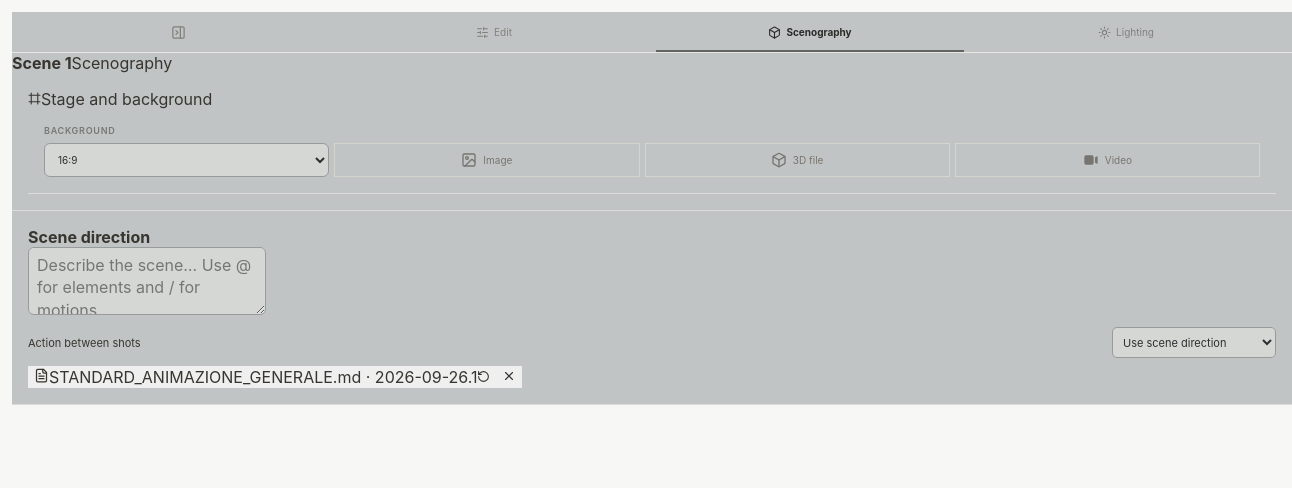
it: Scene direction mentions and motion presets › offers element motions after @mention and saves their prompts
Type "@Cu" into the text box named "Scene direction".
click(147, 281); type("@Cu")  # box 28,247 -> 266,315
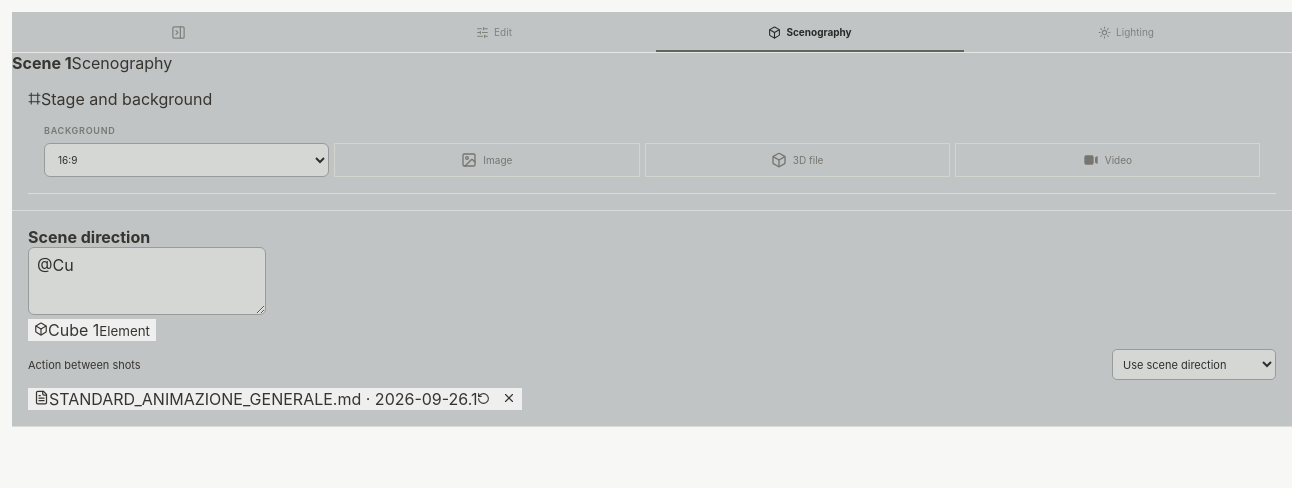
Result: the option with aria-label "Cube 1 Element" is shown
Click the option with aria-label "Cube 1 Element".
click(92, 330)  # box 28,319 -> 156,341
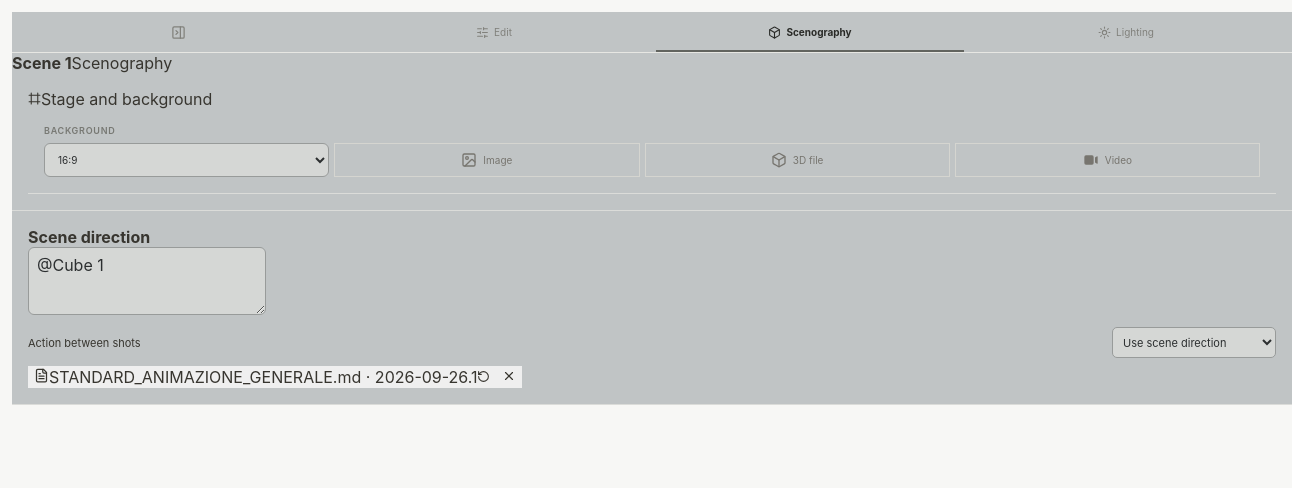
Replace the text in the text box named "Scene direction" with "@Cube 1 /" at (147,281), box 28,247 -> 266,315
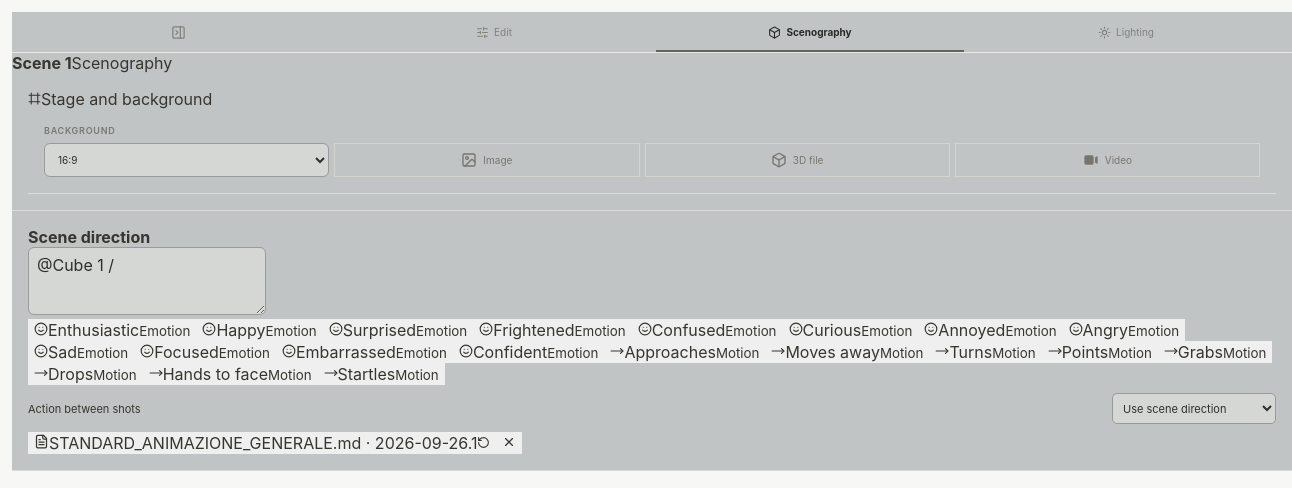
Result: the option with aria-label "Annoyed Emotion" is shown
Click the option with aria-label "Annoyed Emotion".
click(990, 330)  # box 918,319 -> 1062,341
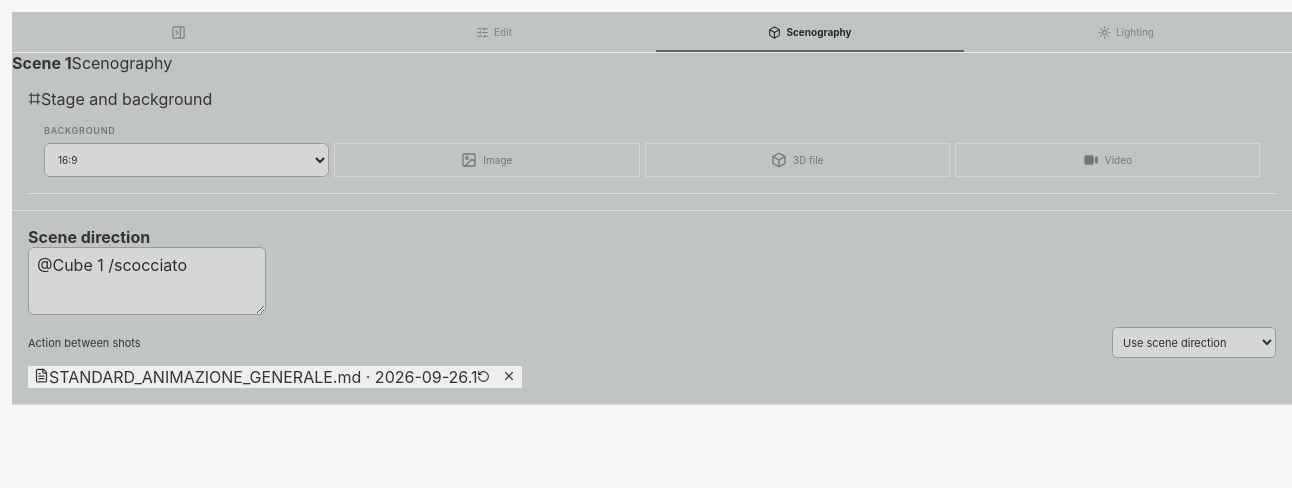
Result: the text box named "Scene direction" holds "@Cube 1 /scocciato "
Replace the text in the text box named "Scene direction" with "@Cube 1 /scocciato /si-av" at (147,281), box 28,247 -> 266,315
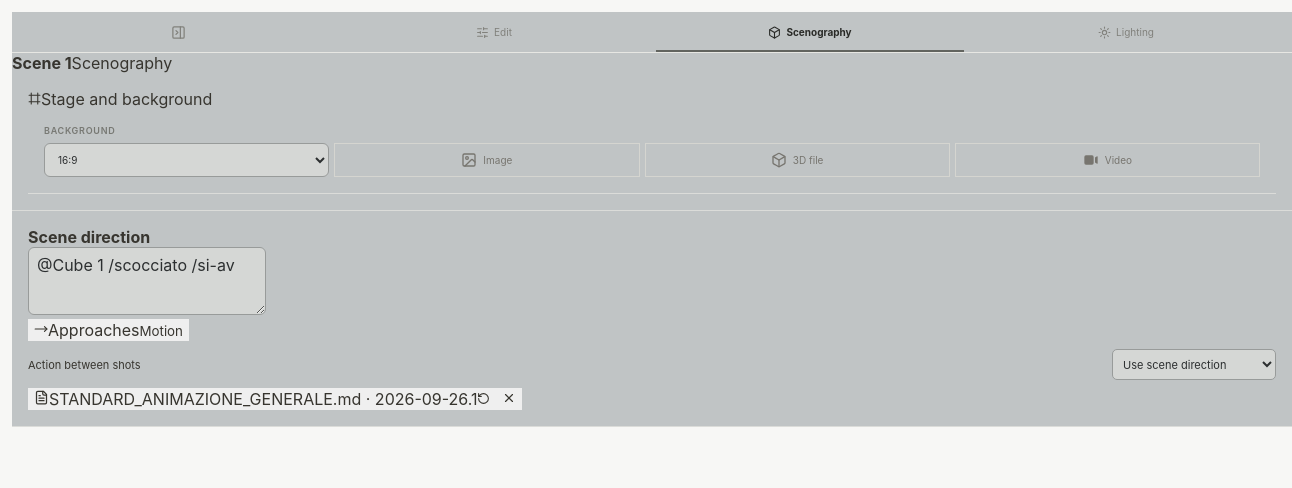
Press Enter in the text box named "Scene direction", box 28,247 -> 266,315
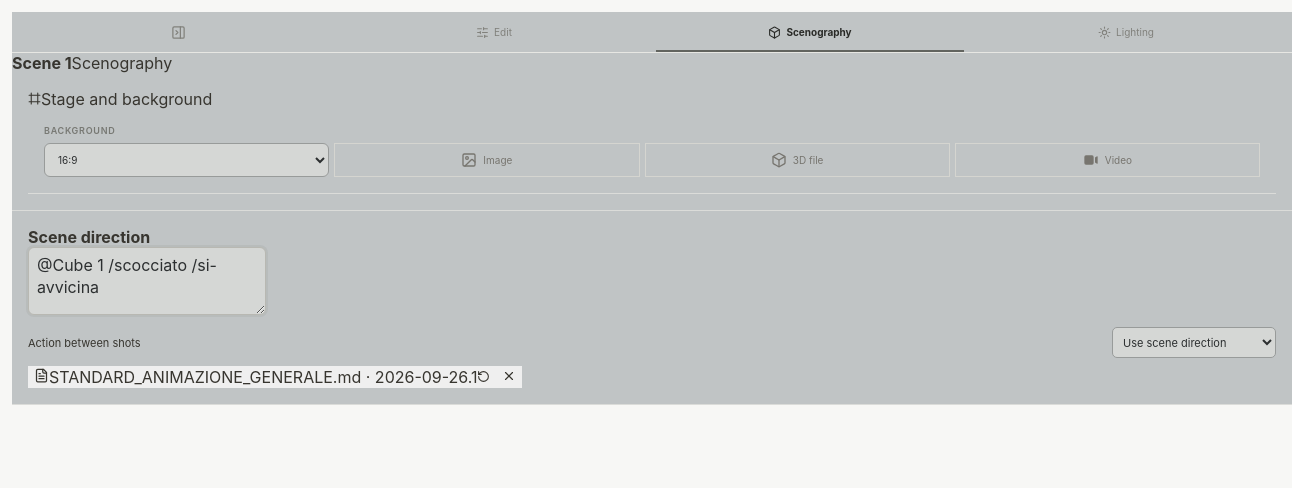
Result: the text box named "Scene direction" holds "@Cube 1 /scocciato /si-avvicina " at 28,247 -> 266,315
